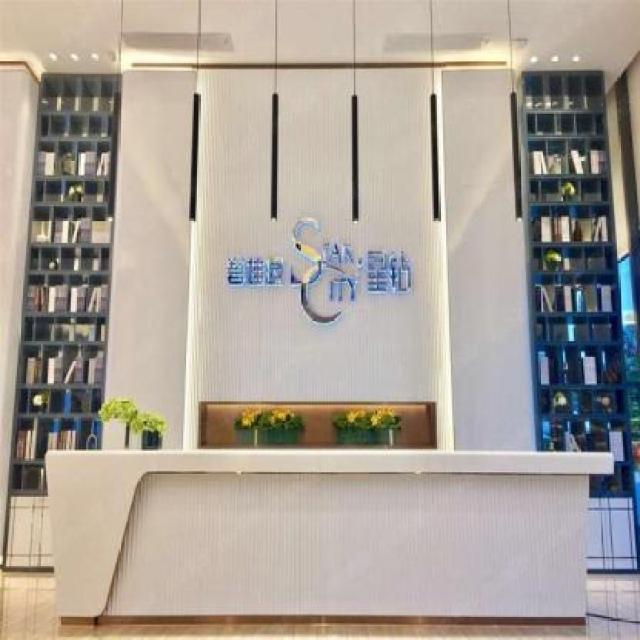frontdesk: (26, 435, 624, 640)
